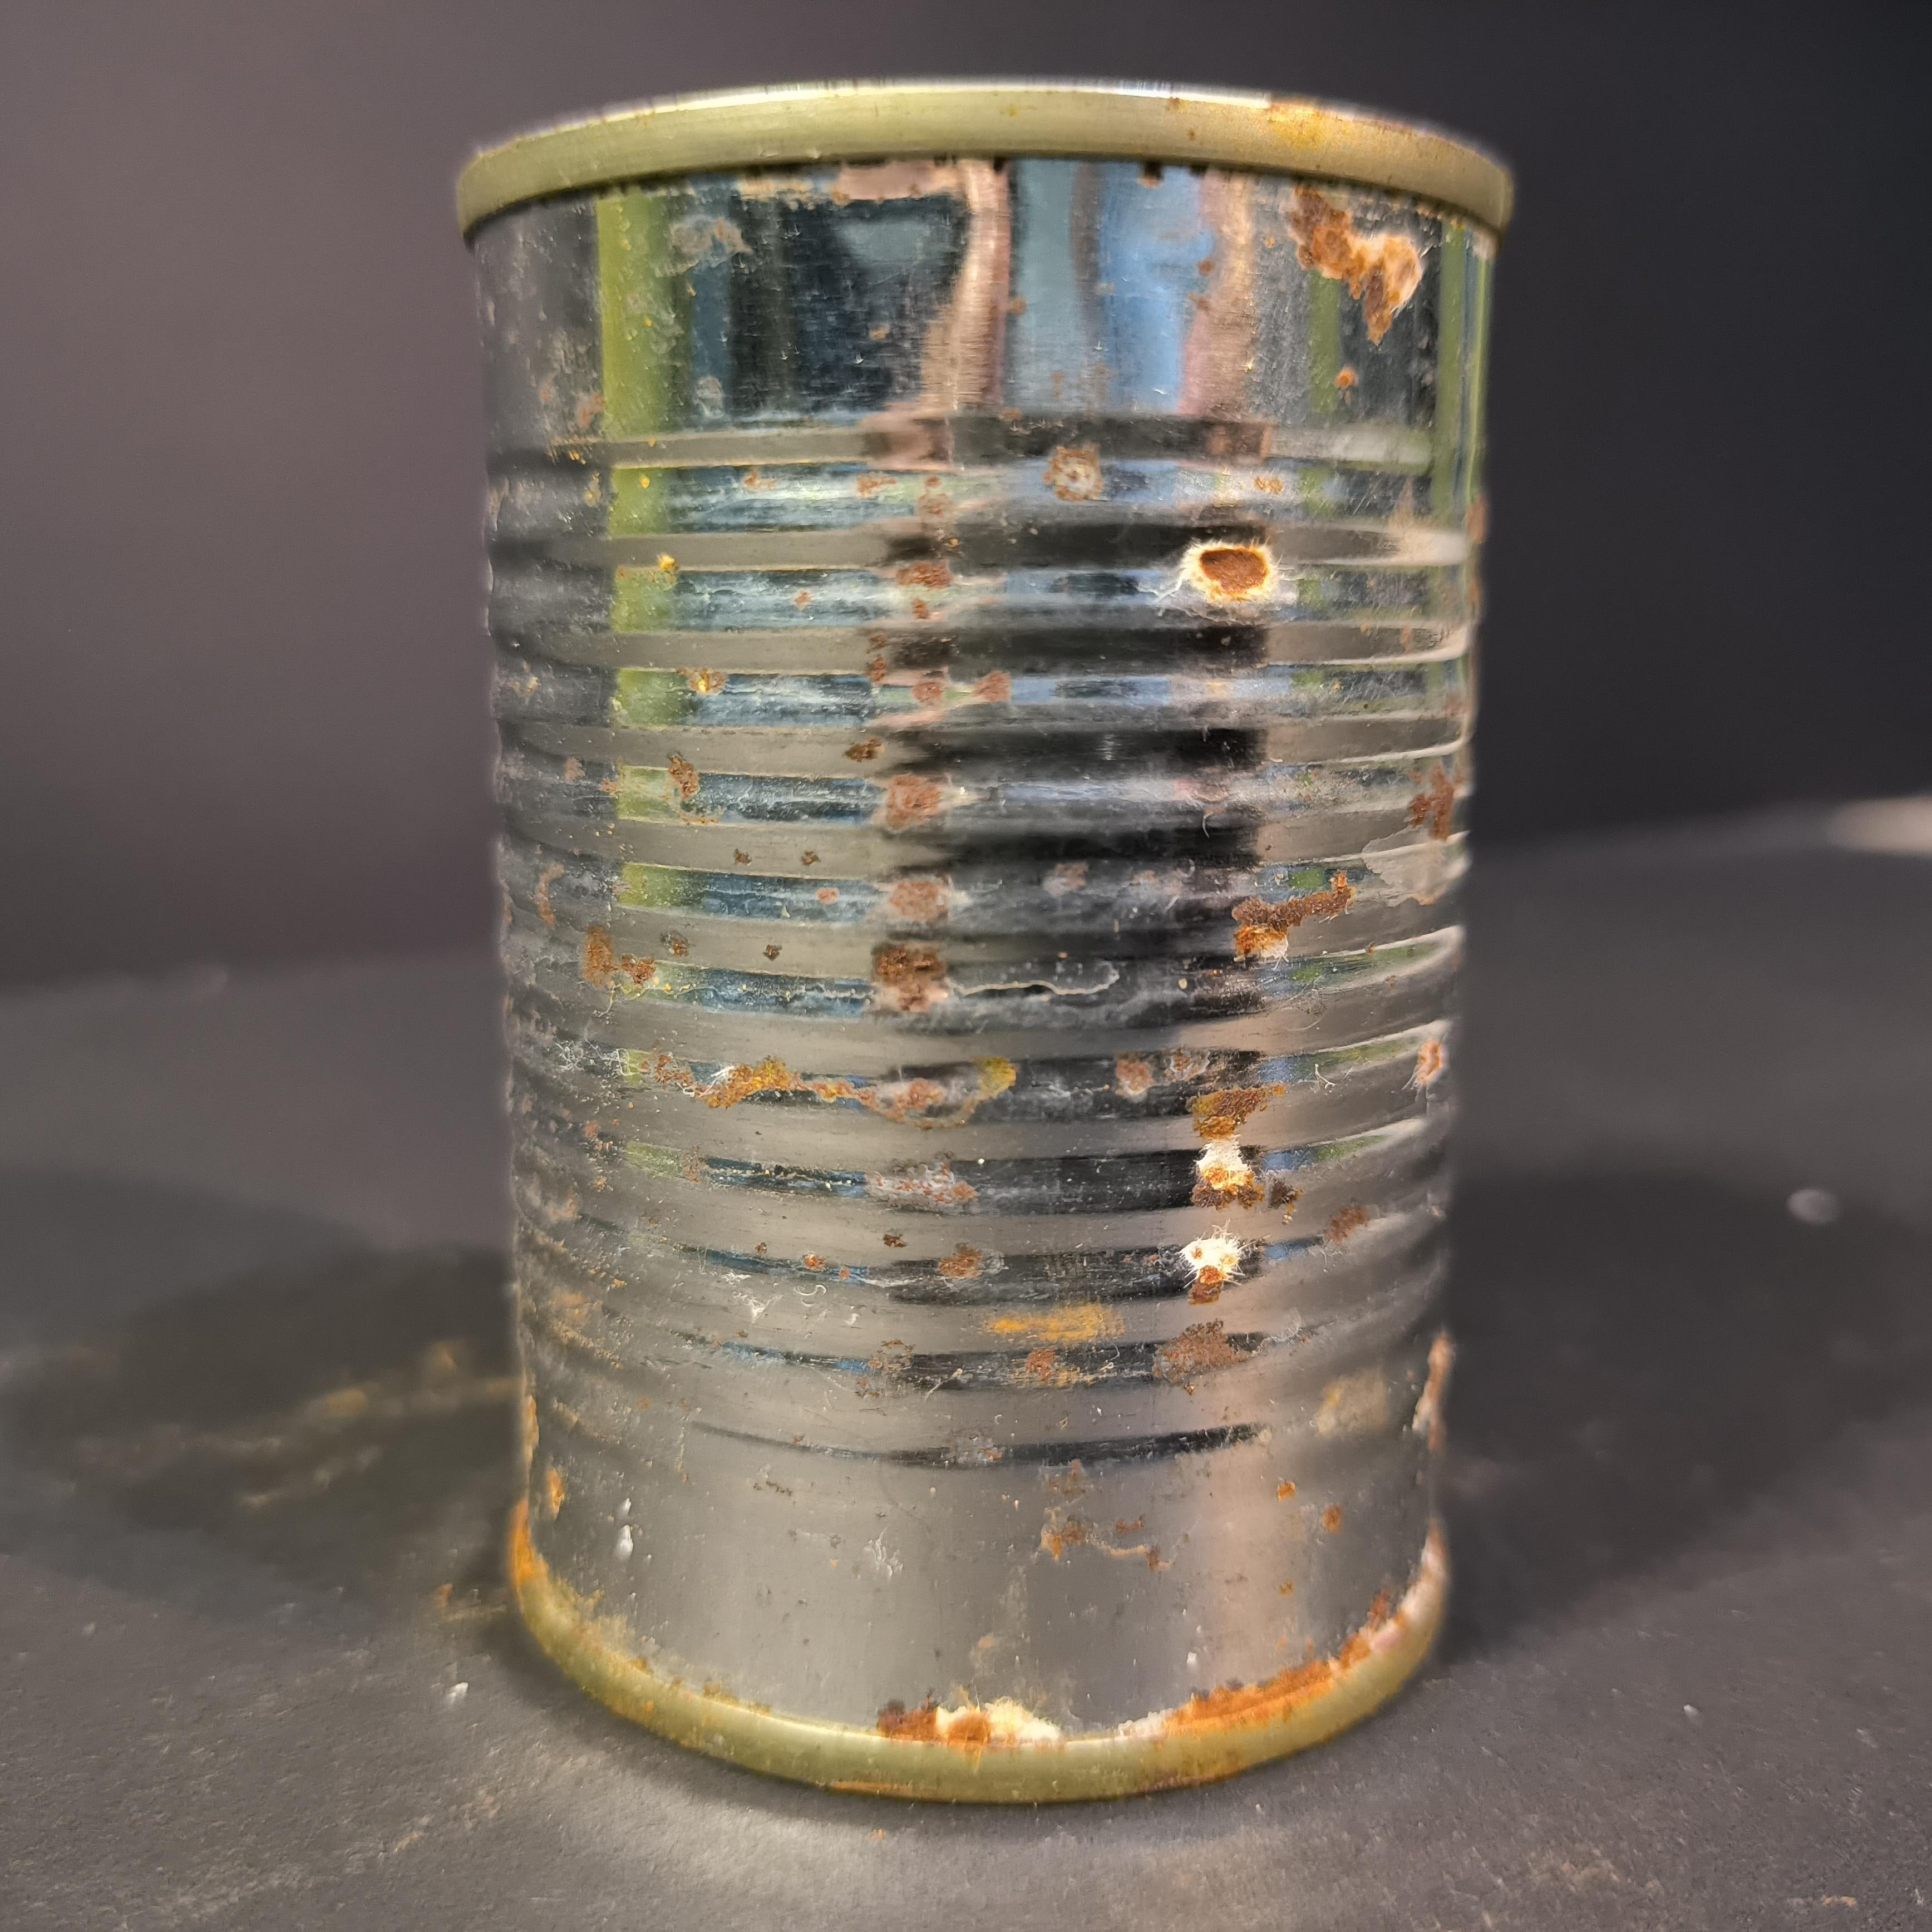Rusted: (428, 61, 1552, 1853)
